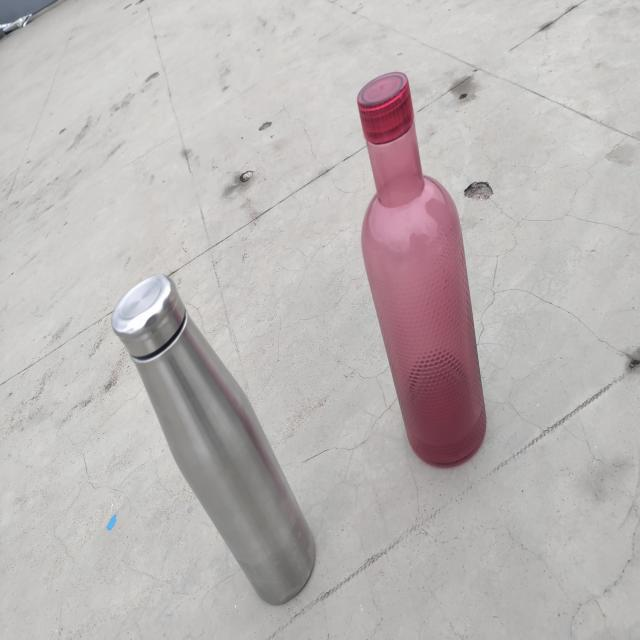dry: (330, 80, 555, 534), (78, 261, 340, 619)
